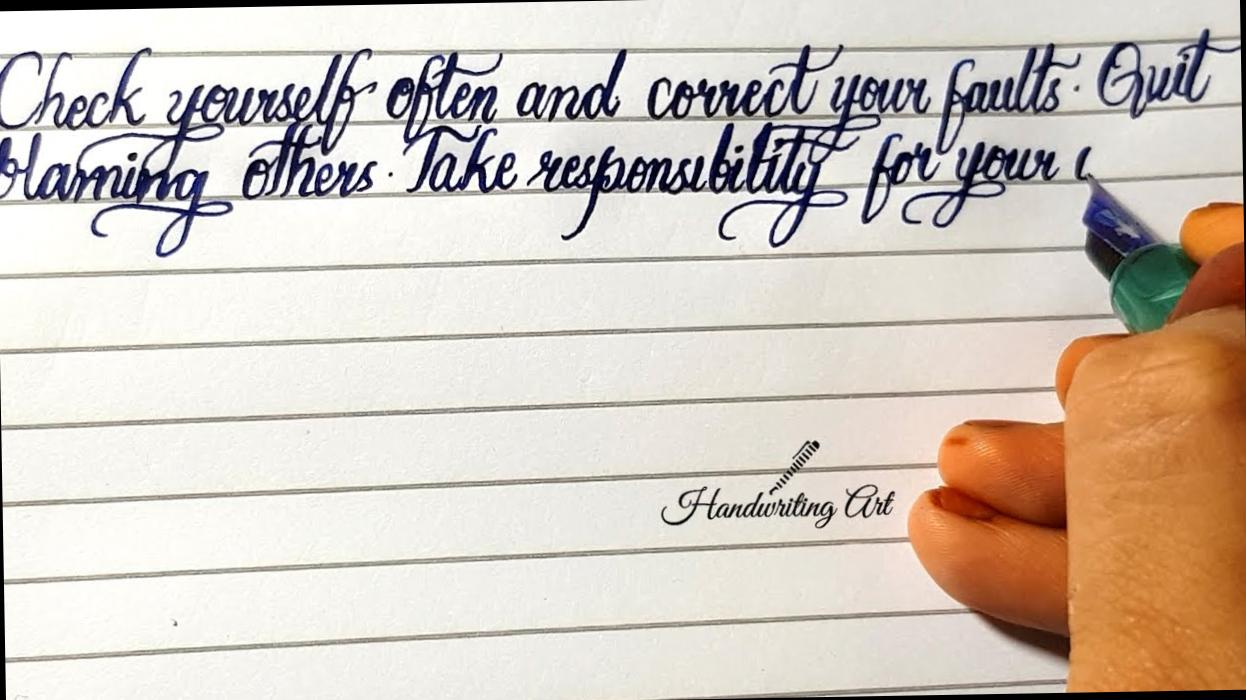text: (0, 22, 1242, 174), (0, 114, 1103, 263), (654, 435, 899, 534)
